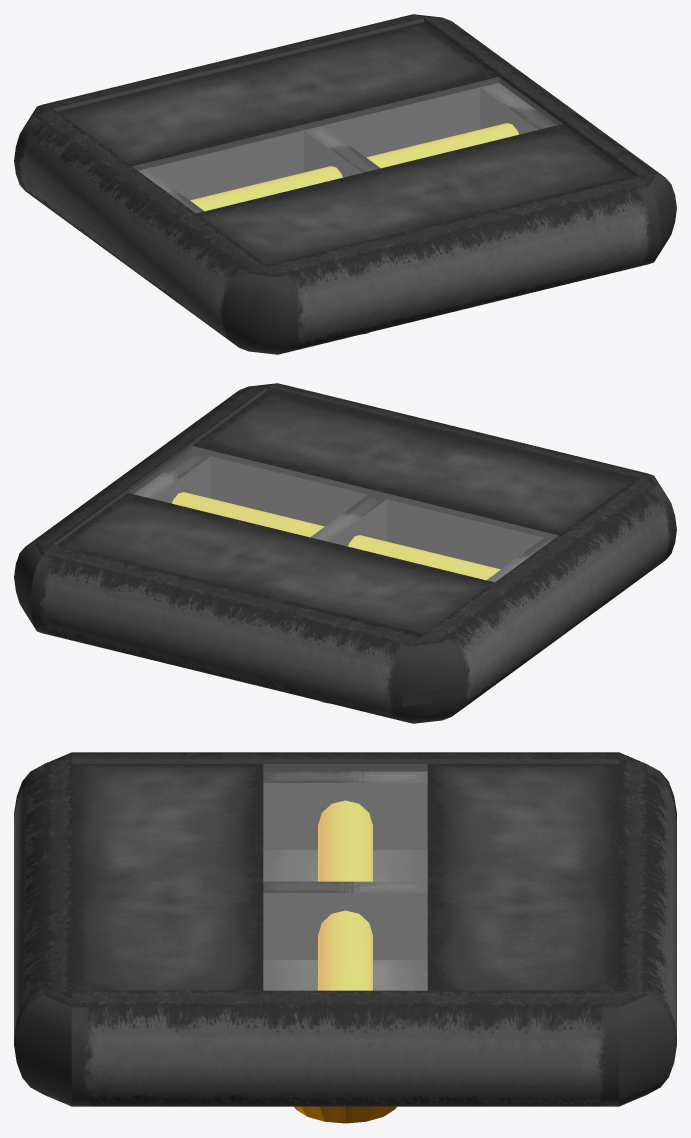
File: platformclosed_wThrust.fbx
3 views of the same model, one above another, from view 1: azimuth 30°, elevation 25°; view 2: azimuth 150°, elevation 25°; view 3: azimuth 270°, elevation 25° (orthographic). The views are drawn at different scales.
Parts seen in each view (by area): view 1: Cube, Cube.004, Cylinder, Cube.001, Cube.003, Cube.002; view 2: Cube, Cube.004, Cylinder, Cube.001, Cube.003, Cube.002; view 3: Cube, Cube.004, Cube.003, Cube.002, Cylinder, Cylinder.001.
Boxes of the visible parts, box(x1,y1,x2,y2) form: Cube: box(14, 14, 676, 354); Cube.004: box(132, 77, 561, 212); Cylinder: box(190, 123, 518, 210); Cube.001: box(480, 83, 556, 134); Cube.003: box(304, 126, 380, 177); Cube.002: box(138, 169, 204, 213); Cube: box(14, 383, 676, 723); Cube.004: box(129, 446, 558, 582); Cylinder: box(172, 492, 500, 579); Cube.001: box(134, 451, 210, 503); Cube.003: box(310, 495, 386, 546); Cube.002: box(487, 537, 552, 582); Cube: box(14, 752, 676, 1106); Cube.004: box(263, 764, 427, 990); Cube.003: box(263, 881, 427, 959); Cube.002: box(263, 771, 427, 849); Cylinder: box(318, 800, 372, 990); Cylinder.001: box(294, 1106, 396, 1123).
Size of the model in its own units: 2420 by 910 by 2420.
